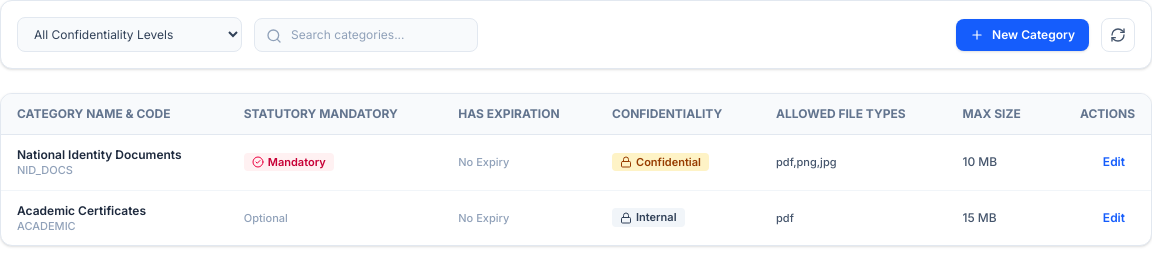
Test: CategoriesTab Component & In-Place Filtering Audit › renders categories in table without unmounting during search filtering
Expected: the text "National Identity Documents" is shown, [17, 147, 182, 162]
Expected: the text "Academic Certificates" is shown, [17, 203, 146, 218]
# Verify search input filters in-place without table destruction
Step 1. Type "Academic" into the field with placeholder "Search categories..." → (366, 34), box [254, 18, 478, 52]
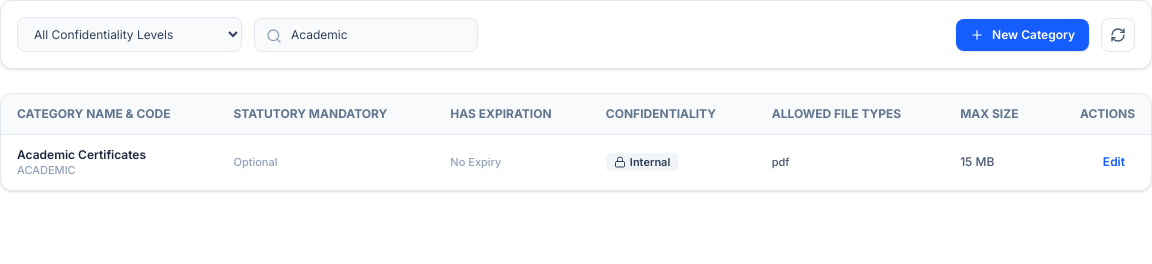
Expected: the text "Academic Certificates" is shown, [17, 147, 146, 162]
Now the text "National Identity Documents" is gone
# Clear search
Step 2. Clear the field with placeholder "Search categories..." → (366, 34), box [254, 18, 478, 52]
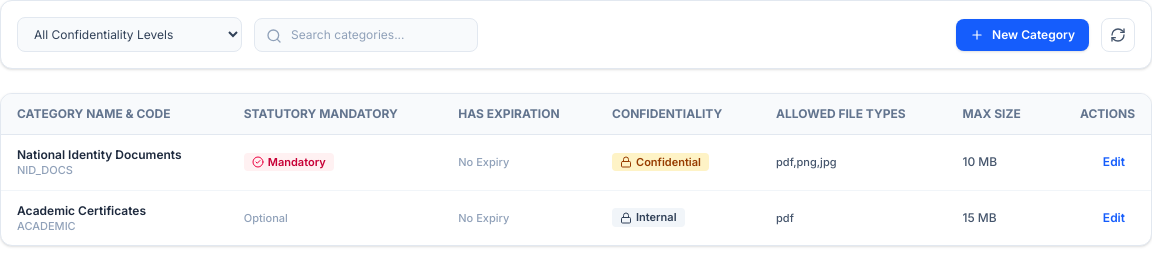
Expected: the text "Academic Certificates" is shown, [17, 203, 146, 218]
Now the text "National Identity Documents" is shown, box [17, 147, 182, 162]
